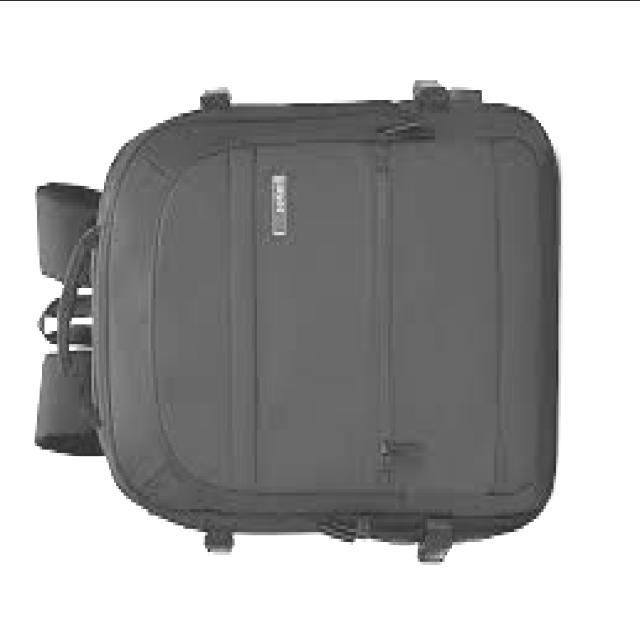backpack: (31, 80, 560, 565)
